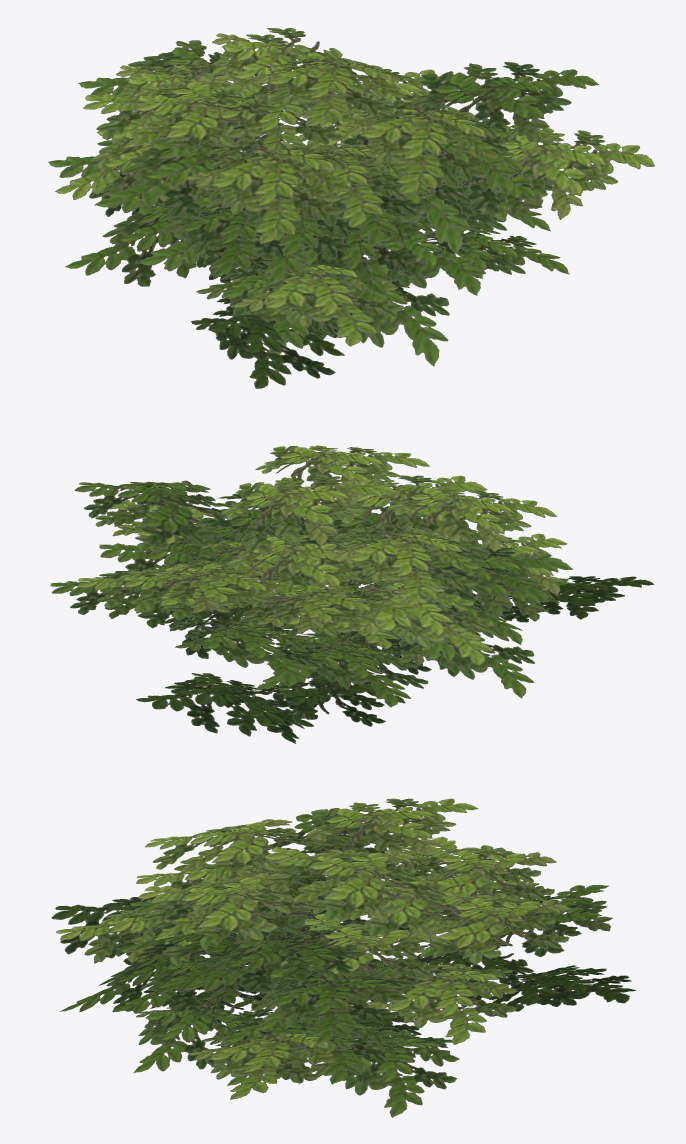
Rendered from S_Tree_Green028_H2.fbx.
3 views of the same model, one above another, from view 1: azimuth 30°, elevation 25°; view 2: azimuth 150°, elevation 25°; view 3: azimuth 270°, elevation 25° (orthographic). The views are drawn at different scales.
Visible parts, largest first — view 1: S_Tree_Green028_H2; view 2: S_Tree_Green028_H2; view 3: S_Tree_Green028_H2.
Boxes of the visible parts, x1,y1,x2,y2 form: S_Tree_Green028_H2: (48,28,654,388); S_Tree_Green028_H2: (50,445,654,743); S_Tree_Green028_H2: (51,798,635,1117).
Bounding box in the file's own units: 366 × 112 × 375.
1 material, 1 textured.
